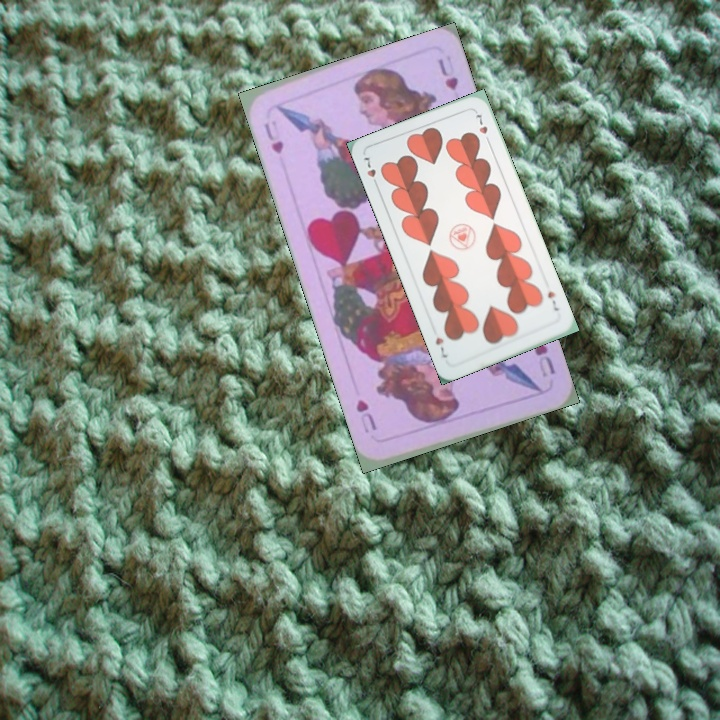H7: (360, 152, 381, 190), (543, 287, 561, 313)
HU: (530, 338, 558, 380), (260, 116, 287, 157)
